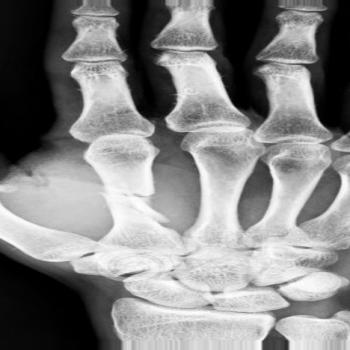Fracture: (94, 184, 164, 205)
